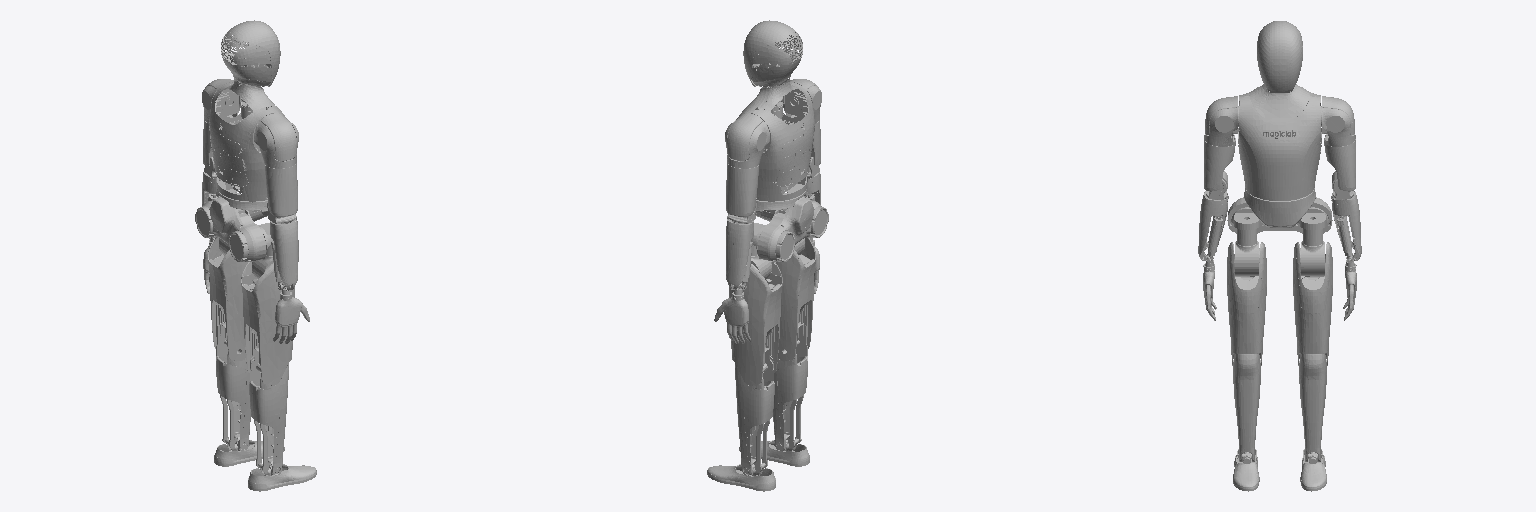
--- Facts derived from the render (not from the file) ---
3 views of the same robot in one strip: view 1: azimuth 30°, elevation 25°; view 2: azimuth 150°, elevation 25°; view 3: azimuth 270°, elevation 25° (orthographic).
Robot: Magicbot-Gen1 — 36 links, 35 joints (14 revolute, 21 fixed); root link pelvis; default pose: all joints at 0.
Visible links, largest first — view 1: link_wy, LINK_HIP_PITCH_R, LINK_HIP_PITCH_L, LINK_KNEE_PITCH_R, pelvis, LINK_KNEE_PITCH_L, link_hp, link_ra5, link_ra3, LINK_ANKLE_ROLL_R, link_ra7, link_ra1 (+2 smaller); view 2: link_wy, LINK_HIP_PITCH_L, LINK_HIP_PITCH_R, LINK_KNEE_PITCH_L, pelvis, LINK_KNEE_PITCH_R, link_hp, link_la5, link_la3, LINK_ANKLE_ROLL_L, link_la7, link_la1 (+2 smaller); view 3: link_wy, LINK_HIP_PITCH_L, LINK_HIP_PITCH_R, link_hp, LINK_KNEE_PITCH_R, LINK_KNEE_PITCH_L, link_wr, link_la5, link_ra5, link_la3, link_ra3, LINK_HIP_YAW_L (+10 smaller).
Boxes of the visible links, left/top/right/bottom form: link_wy: left=209, top=36, right=286, bottom=201; LINK_HIP_PITCH_R: left=241, top=261, right=294, bottom=385; LINK_HIP_PITCH_L: left=208, top=237, right=247, bottom=360; LINK_KNEE_PITCH_R: left=249, top=347, right=288, bottom=475; pelvis: left=195, top=196, right=268, bottom=261; LINK_KNEE_PITCH_L: left=216, top=322, right=250, bottom=450; link_hp: left=221, top=20, right=280, bottom=86; link_ra5: left=270, top=219, right=298, bottom=290; link_ra3: left=265, top=163, right=297, bottom=217; LINK_ANKLE_ROLL_R: left=248, top=463, right=316, bottom=491; link_ra7: left=273, top=283, right=309, bottom=343; link_ra1: left=261, top=113, right=296, bottom=160; link_wy: left=737, top=35, right=814, bottom=201; LINK_HIP_PITCH_L: left=729, top=261, right=782, bottom=385; LINK_HIP_PITCH_R: left=776, top=237, right=815, bottom=360; LINK_KNEE_PITCH_L: left=735, top=347, right=774, bottom=475; pelvis: left=755, top=196, right=828, bottom=261; LINK_KNEE_PITCH_R: left=773, top=322, right=807, bottom=450; link_hp: left=743, top=20, right=802, bottom=87; link_la5: left=726, top=219, right=753, bottom=290; link_la3: left=726, top=163, right=758, bottom=217; LINK_ANKLE_ROLL_L: left=707, top=463, right=775, bottom=491; link_la7: left=714, top=283, right=750, bottom=343; link_la1: left=727, top=113, right=762, bottom=160; link_wy: left=1238, top=36, right=1321, bottom=200; LINK_HIP_PITCH_L: left=1293, top=242, right=1332, bottom=365; LINK_HIP_PITCH_R: left=1227, top=242, right=1266, bottom=365; link_hp: left=1257, top=21, right=1302, bottom=92; LINK_KNEE_PITCH_R: left=1233, top=354, right=1260, bottom=461; LINK_KNEE_PITCH_L: left=1299, top=354, right=1326, bottom=461; link_wr: left=1244, top=188, right=1315, bottom=227; link_la5: left=1331, top=191, right=1361, bottom=262; link_ra5: left=1198, top=191, right=1228, bottom=263; link_la3: left=1324, top=139, right=1355, bottom=191; link_ra3: left=1204, top=140, right=1235, bottom=191; LINK_HIP_YAW_L: left=1301, top=229, right=1324, bottom=275.
Size in the robot's own frame: 0.34 by 0.5815 by 1.74 metres.
32 mesh visuals loaded from 32 distinct referenced files (32 binary STL).

The robot description file, URDF, robot "Magicbot-Gen1":
<?xml version="1.0" encoding="utf-8"?>
<robot
  name="Magicbot-Gen1">
  <link
    name="pelvis">
    <inertial>
      <origin
        xyz="-0.08675255 0.00000919 0.01295897"
        rpy="0 0 0" />
      <mass
        value="6.32180704" />
      <inertia
        ixx="0.0850604"
        ixy="0.0000019"
        ixz="-0.00207791"
        iyy="0.01988411"
        iyz="0.00000527"
        izz="0.08386948" />
    </inertial>
    <visual>
      <origin
        xyz="0 0 0"
        rpy="0 0 0" />
      <geometry>
        <mesh
          filename="../meshes/pelvis.STL" />
      </geometry>
      <material
        name="">
        <color
          rgba="0.75294 0.75294 0.75294 1" />
      </material>
    </visual>
    <collision>
      <origin
        xyz="0 0 0"
        rpy="0 0 0" />
      <geometry>
        <mesh
          filename="../meshes/pelvis.STL" />
      </geometry>
    </collision>
  </link>
  <link
    name="LINK_HIP_ROLL_L">
    <inertial>
      <origin
        xyz="-0.0307534 -3.55E-06 0.0214845"
        rpy="0 0 0" />
      <mass
        value="0.47382" />
      <inertia
        ixx="0.00060312"
        ixy="1E-08"
        ixz="-0.00015188"
        iyy="0.0007199"
        iyz="0"
        izz="0.00083822" />
    </inertial>
    <visual>
      <origin
        xyz="0 0 0"
        rpy="0 0 0" />
      <geometry>
        <mesh
          filename="../meshes/LINK_HIP_ROLL_L.STL" />
      </geometry>
      <material
        name="">
        <color
          rgba="0.75294 0.75294 0.75294 1" />
      </material>
    </visual>
    <collision>
      <origin
        xyz="0 0 0"
        rpy="0 0 0" />
      <geometry>
        <mesh
          filename="../meshes/LINK_HIP_ROLL_L.STL" />
      </geometry>
    </collision>
  </link>
  <joint
    name="JOINT_HIP_ROLL_L"
    type="revolute">
    <origin
      xyz="0 0.1175 0"
      rpy="0 0 0" />
    <parent
      link="pelvis" />
    <child
      link="LINK_HIP_ROLL_L" />
    <axis
      xyz="1 0 0" />
    <limit
      lower="-0.349"
      upper="0.523"
      effort="360"
      velocity="15" />
  </joint>
  <link
    name="LINK_HIP_YAW_L">
    <inertial>
      <origin
        xyz="-0.00106248 -0.00273398 -0.08172446"
        rpy="0 0 0" />
      <mass
        value="3.3831774" />
      <inertia
        ixx="0.0025817"
        ixy="-1.749E-05"
        ixz="-5.305E-05"
        iyy="0.01518954"
        iyz="-0.0003372"
        izz="0.00449534" />
    </inertial>
    <visual>
      <origin
        xyz="0 0 0"
        rpy="0 0 0" />
      <geometry>
        <mesh
          filename="../meshes/LINK_HIP_YAW_L.STL" />
      </geometry>
      <material
        name="">
        <color
          rgba="0.75294 0.75294 0.75294 1" />
      </material>
    </visual>
    <collision>
      <origin
        xyz="0 0 0"
        rpy="0 0 0" />
      <geometry>
        <mesh
          filename="../meshes/LINK_HIP_YAW_L.STL" />
      </geometry>
    </collision>
  </link>
  <joint
    name="JOINT_HIP_YAW_L"
    type="revolute">
    <origin
      xyz="0 0 0"
      rpy="0 0 0" />
    <parent
      link="LINK_HIP_ROLL_L" />
    <child
      link="LINK_HIP_YAW_L" />
    <axis
      xyz="0 0 1" />
    <limit
      lower="-0.262"
      upper="0.523"
      effort="60"
      velocity="15" />
  </joint>
  <link
    name="LINK_HIP_PITCH_L">
    <inertial>
      <origin
        xyz="-0.01293367 -0.00410579 -0.15592136"
        rpy="0 0 0" />
      <mass
        value="5.04878347" />
      <inertia
        ixx="0.05451915"
        ixy="4.351E-05"
        ixz="-0.00131968"
        iyy="0.05697118"
        iyz="-8.554E-05"
        izz="0.01571501" />
    </inertial>
    <visual>
      <origin
        xyz="0 0 0"
        rpy="0 0 0" />
      <geometry>
        <mesh
          filename="../meshes/LINK_HIP_PITCH_L.STL" />
      </geometry>
      <material
        name="">
        <color
          rgba="0.75294 0.75294 0.75294 1" />
      </material>
    </visual>
    <collision>
      <origin
        xyz="0 0 0"
        rpy="0 0 0" />
      <geometry>
        <mesh
          filename="../meshes/LINK_HIP_PITCH_L.STL" />
      </geometry>
    </collision>
  </link>
  <joint
    name="JOINT_HIP_PITCH_L"
    type="revolute">
    <origin
      xyz="0 0 -0.118"
      rpy="0 0 0" />
    <parent
      link="LINK_HIP_YAW_L" />
    <child
      link="LINK_HIP_PITCH_L" />
    <axis
      xyz="0 1 0" />
    <limit
      lower="-2.093"
      upper="0.698"
      effort="360"
      velocity="15" />
  </joint>
  <link
    name="LINK_KNEE_PITCH_L">
    <inertial>
      <origin
        xyz="0.02883341 0.00126447 -0.12048006"
        rpy="0 0 0" />
      <mass
        value="3.37617301" />
      <inertia
        ixx="0.04840952"
        ixy="3.72E-05"
        ixz="0.00187978"
        iyy="0.04874275"
        iyz="-0.00049369"
        izz="0.00494927" />
    </inertial>
    <visual>
      <origin
        xyz="0 0 0"
        rpy="0 0 0" />
      <geometry>
        <mesh
          filename="../meshes/LINK_KNEE_PITCH_L.STL" />
      </geometry>
      <material
        name="">
        <color
          rgba="0.75294 0.75294 0.75294 1" />
      </material>
    </visual>
    <collision>
      <origin
        xyz="0 0 0"
        rpy="0 0 0" />
      <geometry>
        <mesh
          filename="../meshes/LINK_KNEE_PITCH_L.STL" />
      </geometry>
    </collision>
  </link>
  <joint
    name="JOINT_KNEE_PITCH_L"
    type="revolute">
    <origin
      xyz="-0.03295 0 -0.3875"
      rpy="0 0 0" />
    <parent
      link="LINK_HIP_PITCH_L" />
    <child
      link="LINK_KNEE_PITCH_L" />
    <axis
      xyz="0 1 0" />
    <limit
      lower="0"
      upper="2.617"
      effort="360"
      velocity="15" />
  </joint>
  <link
    name="LINK_ANKLE_PITCH_L">
    <inertial>
      <origin
        xyz="0 0 -0.00869504"
        rpy="0 0 0" />
      <mass
        value="0.0724143" />
      <inertia
        ixx="1.073E-05"
        ixy="0"
        ixz="0"
        iyy="1.156E-05"
        iyz="0"
        izz="1.127E-05" />
    </inertial>
    <visual>
      <origin
        xyz="0 0 0"
        rpy="0 0 0" />
      <geometry>
        <mesh
          filename="../meshes/LINK_ANKLE_PITCH_L.STL" />
      </geometry>
      <material
        name="">
        <color
          rgba="0.75294 0.75294 0.75294 1" />
      </material>
    </visual>
    <collision>
      <origin
        xyz="0 0 0"
        rpy="0 0 0" />
      <geometry>
        <mesh
          filename="../meshes/LINK_ANKLE_PITCH_L.STL" />
      </geometry>
    </collision>
  </link>
  <joint
    name="JOINT_ANKLE_PITCH_L"
    type="revolute">
    <origin
      xyz="0.035056 0 -0.3867"
      rpy="0 0 0" />
    <parent
      link="LINK_KNEE_PITCH_L" />
    <child
      link="LINK_ANKLE_PITCH_L" />
    <axis
      xyz="0 1 0" />
    <limit
      lower="-1.308"
      upper="0.523"
      effort="120"
      velocity="15" />
  </joint>
  <link
    name="LINK_ANKLE_ROLL_L">
    <inertial>
      <origin
        xyz="0.01816289 0.00118755 -0.02613973"
        rpy="0 0 0" />
      <mass
        value="0.80130806" />
      <inertia
        ixx="0.00072313"
        ixy="-6.6E-07"
        ixz="0.0004055"
        iyy="0.00377636"
        iyz="9.94E-06"
        izz="0.00379858" />
    </inertial>
    <visual>
      <origin
        xyz="0 0 0"
        rpy="0 0 0" />
      <geometry>
        <mesh
          filename="../meshes/LINK_ANKLE_ROLL_L.STL" />
      </geometry>
      <material
        name="">
        <color
          rgba="0.75294 0.75294 0.75294 1" />
      </material>
    </visual>
    <collision>
      <origin
        xyz="0 0 0"
        rpy="0 0 0" />
      <geometry>
        <mesh
          filename="../meshes/LINK_ANKLE_ROLL_L.STL" />
      </geometry>
    </collision>
  </link>
  <joint
    name="JOINT_ANKLE_ROLL_L"
    type="revolute">
    <origin
      xyz="0 0 -0.01"
      rpy="0 0 0" />
    <parent
      link="LINK_ANKLE_PITCH_L" />
    <child
      link="LINK_ANKLE_ROLL_L" />
    <axis
      xyz="1 0 0" />
    <limit
      lower="-0.349"
      upper="0.349"
      effort="120"
      velocity="15" />
  </joint>
  <link
    name="LINK_HIP_ROLL_R">
    <inertial>
      <origin
        xyz="-0.0307534 -3.59E-06 0.0214845"
        rpy="0 0 0" />
      <mass
        value="0.47383286" />
      <inertia
        ixx="0.00060312"
        ixy="1E-08"
        ixz="-0.00015188"
        iyy="0.0007199"
        iyz="0"
        izz="0.00083822" />
    </inertial>
    <visual>
      <origin
        xyz="0 0 0"
        rpy="0 0 0" />
      <geometry>
        <mesh
          filename="../meshes/LINK_HIP_ROLL_R.STL" />
      </geometry>
      <material
        name="">
        <color
          rgba="0.75294 0.75294 0.75294 1" />
      </material>
    </visual>
    <collision>
      <origin
        xyz="0 0 0"
        rpy="0 0 0" />
      <geometry>
        <mesh
          filename="../meshes/LINK_HIP_ROLL_R.STL" />
      </geometry>
    </collision>
  </link>
  <joint
    name="JOINT_HIP_ROLL_R"
    type="revolute">
    <origin
      xyz="0 -0.1175 0"
      rpy="0 0 0" />
    <parent
      link="pelvis" />
    <child
      link="LINK_HIP_ROLL_R" />
    <axis
      xyz="1 0 0" />
    <limit
      lower="-0.523"
      upper="0.349"
      effort="360"
      velocity="15" />
  </joint>
  <link
    name="LINK_HIP_YAW_R">
    <inertial>
      <origin
        xyz="-0.00100961 0.00273909 -0.08170498"
        rpy="0 0 0" />
      <mass
        value="3.38317107" />
      <inertia
        ixx="0.01444072"
        ixy="2.4146E-05"
        ixz="-5.55E-05"
        iyy="0.01580205"
        iyz="0.00031688"
        izz="0.00469921" />
    </inertial>
    <visual>
      <origin
        xyz="0 0 0"
        rpy="0 0 0" />
      <geometry>
        <mesh
          filename="../meshes/LINK_HIP_YAW_R.STL" />
      </geometry>
      <material
        name="">
        <color
          rgba="0.75294 0.75294 0.75294 1" />
      </material>
    </visual>
    <collision>
      <origin
        xyz="0 0 0"
        rpy="0 0 0" />
      <geometry>
        <mesh
          filename="../meshes/LINK_HIP_YAW_R.STL" />
      </geometry>
    </collision>
  </link>
  <joint
    name="JOINT_HIP_YAW_R"
    type="revolute">
    <origin
      xyz="0 0 0"
      rpy="0 0 0" />
    <parent
      link="LINK_HIP_ROLL_R" />
    <child
      link="LINK_HIP_YAW_R" />
    <axis
      xyz="0 0 1" />
    <limit
      lower="-0.523"
      upper="0.262"
      effort="60"
      velocity="15" />
  </joint>
  <link
    name="LINK_HIP_PITCH_R">
    <inertial>
      <origin
        xyz="-0.01160838 0.00408093 -0.15539802"
        rpy="0 0 0" />
      <mass
        value="5.04801978" />
      <inertia
        ixx="0.05386062"
        ixy="-0.00016145"
        ixz="-0.0003202"
        iyy="0.05538209"
        iyz="1.298E-05"
        izz="0.01474923" />
    </inertial>
    <visual>
      <origin
        xyz="0 0 0"
        rpy="0 0 0" />
      <geometry>
        <mesh
          filename="../meshes/LINK_HIP_PITCH_R.STL" />
      </geometry>
      <material
        name="">
        <color
          rgba="0.75294 0.75294 0.75294 1" />
      </material>
    </visual>
    <collision>
      <origin
        xyz="0 0 0"
        rpy="0 0 0" />
      <geometry>
        <mesh
          filename="../meshes/LINK_HIP_PITCH_R.STL" />
      </geometry>
    </collision>
  </link>
  <joint
    name="JOINT_HIP_PITCH_R"
    type="revolute">
    <origin
      xyz="0 0 -0.118"
      rpy="0 0 0" />
    <parent
      link="LINK_HIP_YAW_R" />
    <child
      link="LINK_HIP_PITCH_R" />
    <axis
      xyz="0 1 0" />
    <limit
      lower="-2.093"
      upper="0.698"
      effort="360"
      velocity="15" />
  </joint>
  <link
    name="LINK_KNEE_PITCH_R">
    <inertial>
      <origin
        xyz="0.02881522 -0.00126424 -0.12052803"
        rpy="0 0 0" />
      <mass
        value="3.37418513" />
      <inertia
        ixx="0.04839412"
        ixy="-3.873E-05"
        ixz="0.00187255"
        iyy="0.04872791"
        iyz="0.00049571"
        izz="0.00494635" />
    </inertial>
    <visual>
      <origin
        xyz="0 0 0"
        rpy="0 0 0" />
      <geometry>
        <mesh
          filename="../meshes/LINK_KNEE_PITCH_R.STL" />
      </geometry>
      <material
        name="">
        <color
          rgba="0.75294 0.75294 0.75294 1" />
      </material>
    </visual>
    <collision>
      <origin
        xyz="0 0 0"
        rpy="0 0 0" />
      <geometry>
        <mesh
          filename="../meshes/LINK_KNEE_PITCH_R.STL" />
      </geometry>
    </collision>
  </link>
  <joint
    name="JOINT_KNEE_PITCH_R"
    type="revolute">
    <origin
      xyz="-0.032951 0 -0.3875"
      rpy="0 0 0" />
    <parent
      link="LINK_HIP_PITCH_R" />
    <child
      link="LINK_KNEE_PITCH_R" />
    <axis
      xyz="0 1 0" />
    <limit
      lower="0"
      upper="2.617"
      effort="360"
      velocity="15" />
  </joint>
  <link
    name="LINK_ANKLE_PITCH_R">
    <inertial>
      <origin
        xyz="-1.27E-06 -4.51E-06 -0.00869518"
        rpy="0 0 0" />
      <mass
        value="0.0724143" />
      <inertia
        ixx="1.073E-05"
        ixy="0"
        ixz="0"
        iyy="1.156E-05"
        iyz="0"
        izz="1.127E-05" />
    </inertial>
    <visual>
      <origin
        xyz="0 0 0"
        rpy="0 0 0" />
      <geometry>
        <mesh
          filename="../meshes/LINK_ANKLE_PITCH_R.STL" />
      </geometry>
      <material
        name="">
        <color
          rgba="0.75294 0.75294 0.75294 1" />
      </material>
    </visual>
    <collision>
      <origin
        xyz="0 0 0"
        rpy="0 0 0" />
      <geometry>
        <mesh
          filename="../meshes/LINK_ANKLE_PITCH_R.STL" />
      </geometry>
    </collision>
  </link>
  <joint
    name="JOINT_ANKLE_PITCH_R"
    type="revolute">
    <origin
      xyz="0.035003 0 -0.3867"
      rpy="0 0 0" />
    <parent
      link="LINK_KNEE_PITCH_R" />
    <child
      link="LINK_ANKLE_PITCH_R" />
    <axis
      xyz="0 1 0" />
    <limit
      lower="-1.308"
      upper="0.523"
      effort="120"
      velocity="15" />
  </joint>
  <link
    name="LINK_ANKLE_ROLL_R">
    <inertial>
      <origin
        xyz="0.01734636 -0.00124434 -0.02593559"
        rpy="0 0 0" />
      <mass
        value="0.79424534" />
      <inertia
        ixx="0.00071651"
        ixy="-0.00000315"
        ixz="0.00039418"
        iyy="0.00366741"
        iyz="-0.00001032"
        izz="0.00368907" />
    </inertial>
    <visual>
      <origin
        xyz="0 0 0"
        rpy="0 0 0" />
      <geometry>
        <mesh
          filename="../meshes/LINK_ANKLE_ROLL_R.STL" />
      </geometry>
      <material
        name="">
        <color
          rgba="0.75294 0.75294 0.75294 1" />
      </material>
    </visual>
    <collision>
      <origin
        xyz="0 0 0"
        rpy="0 0 0" />
      <geometry>
        <mesh
          filename="../meshes/LINK_ANKLE_ROLL_R.STL" />
      </geometry>
    </collision>
  </link>
  <joint
    name="JOINT_ANKLE_ROLL_R"
    type="revolute">
    <origin
      xyz="0 0 -0.01"
      rpy="4.0892E-05 0.00014855 0" />
    <parent
      link="LINK_ANKLE_PITCH_R" />
    <child
      link="LINK_ANKLE_ROLL_R" />
    <axis
      xyz="1 0 0" />
    <limit
      lower="-0.349"
      upper="0.349"
      effort="120"
      velocity="15" />
  </joint>
  <link
    name="link_wr">
    <inertial>
      <origin
        xyz="-0.01476378 -5.405E-05 0.01059222"
        rpy="0 0 0" />
      <mass
        value="2.52447836" />
      <inertia
        ixx="0.0053535"
        ixy="1.791E-05"
        ixz="-0.00045241"
        iyy="0.01047452"
        iyz="-4.49E-06"
        izz="0.01207148" />
    </inertial>
    <visual>
      <origin
        xyz="0 0 0"
        rpy="0 0 0" />
      <geometry>
        <mesh
          filename="../meshes/link_wr.STL" />
      </geometry>
      <material
        name="">
        <color
          rgba="0.75294 0.75294 0.75294 1" />
      </material>
    </visual>
    <collision>
      <origin
        xyz="0 0 0"
        rpy="0 0 0" />
      <geometry>
        <mesh
          filename="../meshes/link_wr.STL" />
      </geometry>
    </collision>
  </link>
  <joint
    name="joint_wr"
    type="fixed">
    <origin
      xyz="-0.016 0 0.083"
      rpy="0 0 0" />
    <parent
      link="pelvis" />
    <child
      link="link_wr" />
    <axis
      xyz="1 0 0" />
    <limit
      lower="-0.349"
      upper="0.349"
      effort="200"
      velocity="5" />
  </joint>
  <link
    name="link_wy">
    <inertial>
      <origin
        xyz="-0.01668516 -0.00085362 0.24665805"
        rpy="0 0 0" />
      <mass
        value="15.00776677" />
      <inertia
        ixx="0.20052034"
        ixy="9.235E-05"
        ixz="0.00449781"
        iyy="0.15246472"
        iyz="-0.00140118"
        izz="0.10823744" />
    </inertial>
    <visual>
      <origin
        xyz="0 0 0"
        rpy="0 0 0" />
      <geometry>
        <mesh
          filename="../meshes/link_wy.STL" />
      </geometry>
      <material
        name="">
        <color
          rgba="0.75294 0.75294 0.75294 1" />
      </material>
    </visual>
    <collision>
      <origin
        xyz="0 0 0"
        rpy="0 0 0" />
      <geometry>
        <mesh
          filename="../meshes/link_wy.STL" />
      </geometry>
    </collision>
  </link>
  <joint
    name="joint_wy"
    type="fixed">
    <origin
      xyz="0 0 0"
      rpy="0 0 0" />
    <parent
      link="link_wr" />
    <child
      link="link_wy" />
    <axis
      xyz="0 0 1" />
    <limit
      lower="-1.57"
      upper="1.57"
      effort="100"
      velocity="5" />
  </joint>
  <link
    name="link_hy">
    <inertial>
      <origin
        xyz="-0.00331412 0.00160025 -0.06645069"
        rpy="0 0 0" />
      <mass
        value="1.30579318" />
      <inertia
        ixx="0.00609465"
        ixy="7.9E-07"
        ixz="0.00029629"
        iyy="0.0061687"
        iyz="-0.00015242"
        izz="0.00089446" />
    </inertial>
    <visual>
      <origin
        xyz="0 0 0"
        rpy="0 0 0" />
      <geometry>
        <mesh
          filename="../meshes/link_hy.STL" />
      </geometry>
      <material
        name="">
        <color
          rgba="0.75294 0.75294 0.75294 1" />
      </material>
    </visual>
    <collision>
      <origin
        xyz="0 0 0"
        rpy="0 0 0" />
      <geometry>
        <mesh
          filename="../meshes/link_hy.STL" />
      </geometry>
    </collision>
  </link>
  <joint
    name="joint_hy"
    type="fixed">
    <origin
      xyz="-0.0059657 0 0.50108"
      rpy="0 0 0" />
    <parent
      link="link_wy" />
    <child
      link="link_hy" />
    <axis
      xyz="0 0 1" />
    <limit
      lower="-1.047"
      upper="1.047"
      effort="60"
      velocity="15" />
  </joint>
  <link
    name="link_hp">
    <inertial>
      <origin
        xyz="0.01957006 0.00043733 0.08360341"
        rpy="0 0 0" />
      <mass
        value="1.75103035" />
      <inertia
        ixx="0.00836393"
        ixy="6.102E-05"
        ixz="0.0010216"
        iyy="0.0100424"
        iyz="-3.969E-05"
        izz="0.00668716" />
    </inertial>
    <visual>
      <origin
        xyz="0 0 0"
        rpy="0 0 0" />
      <geometry>
        <mesh
          filename="../meshes/link_hp.STL" />
      </geometry>
      <material
        name="">
        <color
          rgba="0.75294 0.75294 0.75294 1" />
      </material>
    </visual>
    <collision>
      <origin
        xyz="0 0 0"
        rpy="0 0 0" />
      <geometry>
        <mesh
          filename="../meshes/link_hp.STL" />
      </geometry>
    </collision>
  </link>
  <joint
    name="joint_hp"
    type="fixed">
    <origin
      xyz="-0.0065 2.3658E-05 0"
      rpy="0 0 0" />
    <parent
      link="link_hy" />
    <child
      link="link_hp" />
    <axis
      xyz="0 1 0" />
    <limit
      lower="-0.349"
      upper="0.349"
      effort="60"
      velocity="15" />
  </joint>
  <link name="link_head_rgbd">
  </link>
  <joint name="joint_head_rgbd" type="fixed">
    <parent link="link_hp"/>
    <child link="link_head_rgbd"/>
    <origin rpy="0.0 2.1198769095 0.0" xyz="0.06093 0.0325 -0.02199"/>
  </joint>
  <link name="link_head_rgb_f">
  </link>
  <joint name="joint_head_rgb_f" type="fixed">
    <parent link="link_hp"/>
    <child link="link_head_rgb_f"/>
    <origin rpy="0.0 1.76278 0.0" xyz="0.09628 0.000 0.03975"/>
  </joint>
  <link name="link_head_rgb_l">
  </link>
  <joint name="joint_head_rgb_l" type="fixed">
    <parent link="link_head_rgb_f"/>
    <child link="link_head_rgb_l"/>
    <origin rpy="-0.61087 0.0 0.0" xyz="0.00682 0.03211 0.0"/>
  </joint>
  <link name="link_head_rgb_r">
  </link>
  <joint name="joint_head_rgb_r" type="fixed">
    <parent link="link_head_rgb_f"/>
    <child link="link_head_rgb_r"/>
    <origin rpy="0.61087 0.0 0.0" xyz="0.00682 -0.03211 0.0"/>
  </joint>
  <link
    name="link_la1">
    <inertial>
      <origin
        xyz="-0.0018413 -0.0024301 -0.00037468"
        rpy="0 0 0" />
      <mass
        value="1.4531" />
      <inertia
        ixx="0.0018652"
        ixy="-6.3E-07"
        ixz="4.1E-07"
        iyy="0.001952"
        iyz="3.302E-05"
        izz="0.0020047" />
    </inertial>
    <visual>
      <origin
        xyz="0 0 0"
        rpy="0 0 0" />
      <geometry>
        <mesh
          filename="../meshes/link_la1.STL" />
      </geometry>
      <material
        name="">
        <color
          rgba="0.75294 0.75294 0.75294 1" />
      </material>
    </visual>
    <collision>
      <origin
        xyz="0 0 0"
        rpy="0 0 0" />
      <geometry>
        <mesh
          filename="../meshes/link_la1.STL" />
      </geometry>
    </collision>
  </link>
  <joint
    name="joint_la1"
    type="revolute">
    <origin
      xyz="-0.0078982 0.19799 0.346"
      rpy="0 0 0" />
    <parent
      link="link_wy" />
    <child
      link="link_la1" />
    <axis
      xyz="0 1 0" />
    <limit
      lower="-2.756"
      upper="2.756"
      effort="110"
      velocity="5" />
  </joint>
  <link
    name="link_la2">
    <inertial>
      <origin
        xyz="-0.00019279 0.0045265 -0.044564"
        rpy="0 0 0" />
      <mass
        value="0.53748" />
      <inertia
        ixx="0.0018012"
        ixy="-1E-07"
        ixz="6.25E-06"
        iyy="0.0025224"
        iyz="0.00019853"
        izz="0.0016985" />
    </inertial>
    <visual>
      <origin
        xyz="0 0 0"
        rpy="0 0 0" />
      <geometry>
        <mesh
          filename="../meshes/link_la2.STL" />
      </geometry>
      <material
        name="">
        <color
          rgba="0.75294 0.75294 0.75294 1" />
      </material>
    </visual>
    <collision>
      <origin
        xyz="0 0 0"
        rpy="0 0 0" />
      <geometry>
        <mesh
          filename="../meshes/link_la2.STL" />
      </geometry>
    </collision>
  </link>
  <joint
    name="joint_la2"
    type="fixed">
    <origin
      xyz="0 0 0"
      rpy="0 0 0" />
    <parent
      link="link_la1" />
    <child
      link="link_la2" />
    <axis
      xyz="1 0 0" />
    <limit
      lower="-0.262"
      upper="2.878"
      effort="110"
      velocity="5" />
  </joint>
  <link
    name="link_la3">
    <inertial>
      <origin
        xyz="-0.0018654 -0.00021946 -0.087638"
        rpy="0 0 0" />
      <mass
        value="1.784" />
      <inertia
        ixx="0.007454"
        ixy="-1.558E-05"
        ixz="-0.00021278"
        iyy="0.0074607"
        iyz="-0.00018909"
        izz="0.0017341" />
    </inertial>
    <visual>
      <origin
        xyz="0 0 0"
        rpy="0 0 0" />
      <geometry>
        <mesh
          filename="../meshes/link_la3.STL" />
      </geometry>
      <material
        name="">
        <color
          rgba="0.75294 0.75294 0.75294 1" />
      </material>
    </visual>
    <collision>
      <origin
        xyz="0 0 0"
        rpy="0 0 0" />
      <geometry>
        <mesh
          filename="../meshes/link_la3.STL" />
      </geometry>
    </collision>
  </link>
  <joint
    name="joint_la3"
    type="fixed">
    <origin
      xyz="0 0.015686 -0.10553"
      rpy="0.087267 0 0" />
    <parent
      link="link_la2" />
    <child
      link="link_la3" />
    <axis
      xyz="0 0 1" />
    <limit
      lower="-2.617"
      upper="2.617"
      effort="100"
      velocity="5" />
  </joint>
  <link
    name="link_la4">
    <inertial>
      <origin
        xyz="-0.0013088 0.00091464 0.02382"
        rpy="0 0 0" />
      <mass
        value="0.17421" />
      <inertia
        ixx="0.00014161"
        ixy="-4.81E-06"
        ixz="9.24E-06"
        iyy="0.00026983"
        iyz="-4.3E-07"
        izz="0.00022317" />
    </inertial>
    <visual>
      <origin
        xyz="0 0 0"
        rpy="0 0 0" />
      <geometry>
        <mesh
          filename="../meshes/link_la4.STL" />
      </geometry>
      <material
        name="">
        <color
          rgba="0.75294 0.75294 0.75294 1" />
      </material>
    </visual>
    <collision>
      <origin
        xyz="0 0 0"
        rpy="0 0 0" />
      <geometry>
        <mesh
          filename="../meshes/link_la4.STL" />
      </geometry>
    </collision>
  </link>
  <joint
    name="joint_la4"
    type="fixed">
    <origin
      xyz="-0.00074295 -0.0049956 -0.15199"
      rpy="-0.00018277 0.0001556 -4.8773E-05" />
    <parent
      link="link_la3" />
    <child
      link="link_la4" />
    <axis
      xyz="1 0 0" />
    <limit
      lower="-2.215"
      upper="0.174"
      effort="100"
      velocity="5" />
  </joint>
  <link
    name="link_la5">
    <inertial>
      <origin
        xyz="3.761E-05 -0.00071947 -0.15533"
        rpy="0 0 0" />
      <mass
        value="1.9293" />
      <inertia
        ixx="0.012532"
        ixy="1.3E-07"
        ixz="-4.13E-06"
        iyy="0.012776"
        iyz="0.00020442"
        izz="0.0017523" />
    </inertial>
    <visual>
      <origin
        xyz="0 0 0"
        rpy="0 0 0" />
      <geometry>
        <mesh
          filename="../meshes/link_la5.STL" />
      </geometry>
      <material
        name="">
        <color
          rgba="0.75294 0.75294 0.75294 1" />
      </material>
    </visual>
    <collision>
      <origin
        xyz="0 0 0"
        rpy="0 0 0" />
      <geometry>
        <mesh
          filename="../meshes/link_la5.STL" />
      </geometry>
    </collision>
  </link>
  <joint
    name="joint_la5"
    type="fixed">
    <origin
      xyz="0 0 0"
      rpy="0 0 0" />
    <parent
      link="link_la4" />
    <child
      link="link_la5" />
    <axis
      xyz="0 0 1" />
    <limit
      lower="-2.913"
      upper="2.913"
      effort="100"
      velocity="5" />
  </joint>
  <link
    name="link_la6">
    <inertial>
      <origin
        xyz="0 -0.010485 -1.319E-05"
        rpy="0 0 0" />
      <mass
        value="0.022425" />
      <inertia
        ixx="2.56E-06"
        ixy="0"
        ixz="0"
        iyy="4.1E-07"
        iyz="0"
        izz="2.68E-06" />
    </inertial>
    <visual>
      <origin
        xyz="0 0 0"
        rpy="0 0 0" />
      <geometry>
        <mesh
          filename="../meshes/link_la6.STL" />
      </geometry>
      <material
        name="">
        <color
          rgba="0.75294 0.75294 0.75294 1" />
      </material>
    </visual>
    <collision>
      <origin
        xyz="0 0 0"
        rpy="0 0 0" />
      <geometry>
        <mesh
          filename="../meshes/link_la6.STL" />
      </geometry>
    </collision>
  </link>
  <joint
    name="joint_la6"
    type="fixed">
    <origin
      xyz="0 0.02371 -0.29785"
      rpy="0 0 0" />
    <parent
      link="link_la5" />
    <child
      link="link_la6" />
    <axis
      xyz="1 0 0" />
    <limit
      lower="-1.099"
      upper="0.855"
      effort="40"
      velocity="5" />
  </joint>
  <link
    name="link_la7">
    <inertial>
      <origin
        xyz="0.0085985 -0.033148 -0.099979"
        rpy="0 0 0" />
      <mass
        value="0.69533" />
      <inertia
        ixx="0.0023328"
        ixy="7.811E-05"
        ixz="8.395E-05"
        iyy="0.0027273"
        iyz="-0.00021603"
        izz="0.00062037" />
    </inertial>
    <visual>
      <origin
        xyz="0 0 0"
        rpy="0 0 0" />
      <geometry>
        <mesh
          filename="../meshes/link_la7.STL" />
      </geometry>
      <material
        name="">
        <color
          rgba="0.75294 0.75294 0.75294 1" />
      </material>
    </visual>
    <collision>
      <origin
        xyz="0 0 0"
        rpy="0 0 0" />
      <geometry>
        <mesh
          filename="../meshes/link_la7.STL" />
      </geometry>
    </collision>
  </link>
  <joint
    name="joint_la7"
    type="fixed">
    <origin
      xyz="0 0 0"
      rpy="0 0 0" />
    <parent
      link="link_la6" />
    <child
      link="link_la7" />
    <axis
      xyz="0 1 0" />
    <limit
      lower="-0.454"
      upper="0.454"
      effort="40"
      velocity="5" />
  </joint>
  <link
    name="link_ra1">
    <inertial>
      <origin
        xyz="0.0018431 0.0024301 -0.00037468"
        rpy="0 0 0" />
      <mass
        value="1.4531" />
      <inertia
        ixx="0.0018652"
        ixy="-6.3E-07"
        ixz="-4.1E-07"
        iyy="0.001952"
        iyz="-3.302E-05"
        izz="0.0020047" />
    </inertial>
    <visual>
      <origin
        xyz="0 0 0"
        rpy="0 0 0" />
      <geometry>
        <mesh
          filename="../meshes/link_ra1.STL" />
      </geometry>
      <material
        name="">
        <color
          rgba="0.75294 0.75294 0.75294 1" />
      </material>
    </visual>
    <collision>
      <origin
        xyz="0 0 0"
        rpy="0 0 0" />
      <geometry>
        <mesh
          filename="../meshes/link_ra1.STL" />
      </geometry>
    </collision>
  </link>
  <joint
    name="joint_ra1"
    type="revolute">
    <origin
      xyz="-0.0079 -0.198 0.346"
      rpy="0 0 0" />
    <parent
      link="link_wy" />
    <child
      link="link_ra1" />
    <axis
      xyz="0 1 0" />
    <limit
      lower="-2.756"
      upper="2.756"
      effort="110"
      velocity="5" />
  </joint>
  <link
    name="link_ra2">
    <inertial>
      <origin
        xyz="0.00019469 -0.0045264 -0.044564"
        rpy="0 0 0" />
      <mass
        value="0.53748" />
      <inertia
        ixx="0.0018012"
        ixy="-1.1E-07"
        ixz="-6.24E-06"
        iyy="0.0025224"
        iyz="-0.00019853"
        izz="0.0016985" />
    </inertial>
    <visual>
      <origin
        xyz="0 0 0"
        rpy="0 0 0" />
      <geometry>
        <mesh
          filename="../meshes/link_ra2.STL" />
      </geometry>
      <material
        name="">
        <color
          rgba="0.75294 0.75294 0.75294 1" />
      </material>
    </visual>
    <collision>
      <origin
        xyz="0 0 0"
        rpy="0 0 0" />
      <geometry>
        <mesh
          filename="../meshes/link_ra2.STL" />
      </geometry>
    </collision>
  </link>
  <joint
    name="joint_ra2"
    type="fixed">
    <origin
      xyz="0 0 0"
      rpy="0 0 0" />
    <parent
      link="link_ra1" />
    <child
      link="link_ra2" />
    <axis
      xyz="1 0 0" />
    <limit
      lower="-2.878"
      upper="0.262"
      effort="110"
      velocity="5" />
  </joint>
  <link
    name="link_ra3">
    <inertial>
      <origin
        xyz="0.0018654 0.00021946 -0.087638"
        rpy="0 0 0" />
      <mass
        value="1.784" />
      <inertia
        ixx="0.007454"
        ixy="-1.558E-05"
        ixz="0.00021278"
        iyy="0.0074607"
        iyz="0.00018909"
        izz="0.0017341" />
    </inertial>
    <visual>
      <origin
        xyz="0 0 0"
        rpy="0 0 0" />
      <geometry>
        <mesh
          filename="../meshes/link_ra3.STL" />
      </geometry>
      <material
        name="">
        <color
          rgba="0.75294 0.75294 0.75294 1" />
      </material>
    </visual>
    <collision>
      <origin
        xyz="0 0 0"
        rpy="0 0 0" />
      <geometry>
        <mesh
          filename="../meshes/link_ra3.STL" />
      </geometry>
    </collision>
  </link>
  <joint
    name="joint_ra3"
    type="fixed">
    <origin
      xyz="1.2039E-05 -0.015686 -0.10553"
      rpy="-0.087267 0 0" />
    <parent
      link="link_ra2" />
    <child
      link="link_ra3" />
    <axis
      xyz="0 0 1" />
    <limit
      lower="-2.617"
      upper="2.617"
      effort="100"
      velocity="5" />
  </joint>
  <link
    name="link_ra4">
    <inertial>
      <origin
        xyz="0.0013088 -0.00091464 -0.02382"
        rpy="0 0 0" />
      <mass
        value="0.17421" />
      <inertia
        ixx="0.00014161"
        ixy="-4.81E-06"
        ixz="-9.24E-06"
        iyy="0.00026983"
        iyz="4.3E-07"
        izz="0.00022317" />
    </inertial>
    <visual>
      <origin
        xyz="0 0 0"
        rpy="0 0 0" />
      <geometry>
        <mesh
          filename="../meshes/link_ra4.STL" />
      </geometry>
      <material
        name="">
        <color
          rgba="0.75294 0.75294 0.75294 1" />
      </material>
    </visual>
    <collision>
      <origin
        xyz="0 0 0"
        rpy="0 0 0" />
      <geometry>
        <mesh
          filename="../meshes/link_ra4.STL" />
      </geometry>
    </collision>
  </link>
  <joint
    name="joint_ra4"
    type="fixed">
    <origin
      xyz="0.00074295 0.0049956 -0.15199"
      rpy="0.00018277 -0.0001556 -4.8773E-05" />
    <parent
      link="link_ra3" />
    <child
      link="link_ra4" />
    <axis
      xyz="1 0 0" />
    <limit
      lower="-0.174"
      upper="2.215"
      effort="100"
      velocity="5" />
  </joint>
  <link
    name="link_ra5">
    <inertial>
      <origin
        xyz="-3.761E-05 0.00071947 -0.15533"
        rpy="0 0 0" />
      <mass
        value="1.9293" />
      <inertia
        ixx="0.012532"
        ixy="1.3E-07"
        ixz="4.13E-06"
        iyy="0.012776"
        iyz="-0.00020442"
        izz="0.0017523" />
    </inertial>
    <visual>
      <origin
        xyz="0 0 0"
        rpy="0 0 0" />
      <geometry>
        <mesh
          filename="../meshes/link_ra5.STL" />
      </geometry>
      <material
        name="">
        <color
          rgba="0.75294 0.75294 0.75294 1" />
      </material>
    </visual>
    <collision>
      <origin
        xyz="0 0 0"
        rpy="0 0 0" />
      <geometry>
        <mesh
          filename="../meshes/link_ra5.STL" />
      </geometry>
    </collision>
  </link>
  <joint
    name="joint_ra5"
    type="fixed">
    <origin
      xyz="0 0 0"
      rpy="0 0 0" />
    <parent
      link="link_ra4" />
    <child
      link="link_ra5" />
    <axis
      xyz="0 0 1" />
    <limit
      lower="-2.913"
      upper="2.913"
      effort="100"
      velocity="5" />
  </joint>
  <link
    name="link_ra6">
    <inertial>
      <origin
        xyz="0 0.010485 -1.319E-05"
        rpy="0 0 0" />
      <mass
        value="0.022425" />
      <inertia
        ixx="2.56E-06"
        ixy="0"
        ixz="0"
        iyy="4.1E-07"
        iyz="0"
        izz="2.68E-06" />
    </inertial>
    <visual>
      <origin
        xyz="0 0 0"
        rpy="0 0 0" />
      <geometry>
        <mesh
          filename="../meshes/link_ra6.STL" />
      </geometry>
      <material
        name="">
        <color
          rgba="0.75294 0.75294 0.75294 1" />
      </material>
    </visual>
    <collision>
      <origin
        xyz="0 0 0"
        rpy="0 0 0" />
      <geometry>
        <mesh
          filename="../meshes/link_ra6.STL" />
      </geometry>
    </collision>
  </link>
  <joint
    name="joint_ra6"
    type="fixed">
    <origin
      xyz="0 -0.02371 -0.29785"
      rpy="0 0 0" />
    <parent
      link="link_ra5" />
    <child
      link="link_ra6" />
    <axis
      xyz="1 0 0" />
    <limit
      lower="-0.855"
      upper="1.099"
      effort="40"
      velocity="5" />
  </joint>
  <link
    name="link_ra7">
    <inertial>
      <origin
        xyz="0.0086988 0.034138 -0.10144"
        rpy="0 0 0" />
      <mass
        value="0.69533" />
      <inertia
        ixx="0.0023847"
        ixy="-7.638E-05"
        ixz="7.981E-05"
        iyy="0.0027928"
        iyz="0.00022067"
        izz="0.00061925" />
    </inertial>
    <visual>
      <origin
        xyz="0 0 0"
        rpy="0 0 0" />
      <geometry>
        <mesh
          filename="../meshes/link_ra7.STL" />
      </geometry>
      <material
        name="">
        <color
          rgba="0.75294 0.75294 0.75294 1" />
      </material>
    </visual>
    <collision>
      <origin
        xyz="0 0 0"
        rpy="0 0 0" />
      <geometry>
        <mesh
          filename="../meshes/link_ra7.STL" />
      </geometry>
    </collision>
  </link>
  <joint
    name="joint_ra7"
    type="fixed">
    <origin
      xyz="0 0 0"
      rpy="0 0 0" />
    <parent
      link="link_ra6" />
    <child
      link="link_ra7" />
    <axis
      xyz="0 1 0" />
    <limit
      lower="-0.454"
      upper="0.454"
      effort="40"
      velocity="5" />
  </joint>
  <link name="logo_link">
    <visual>
      <origin xyz="0 0 0" rpy="0 0 0" />
      <geometry>
        <mesh filename="../meshes/logo_link.STL" scale="1.5 1.5 1.5" />
      </geometry>
      <material name="gray">
        <color rgba="0.5 0.5 0.5 1" />
      </material>
    </visual>
  </link>
  <joint name="logo_joint" type="fixed">
    <origin xyz="-0.042 0 -0.272" rpy="0 0 0" />
    <parent link="link_wy" />
    <child link="logo_link" />
  </joint>
</robot>
